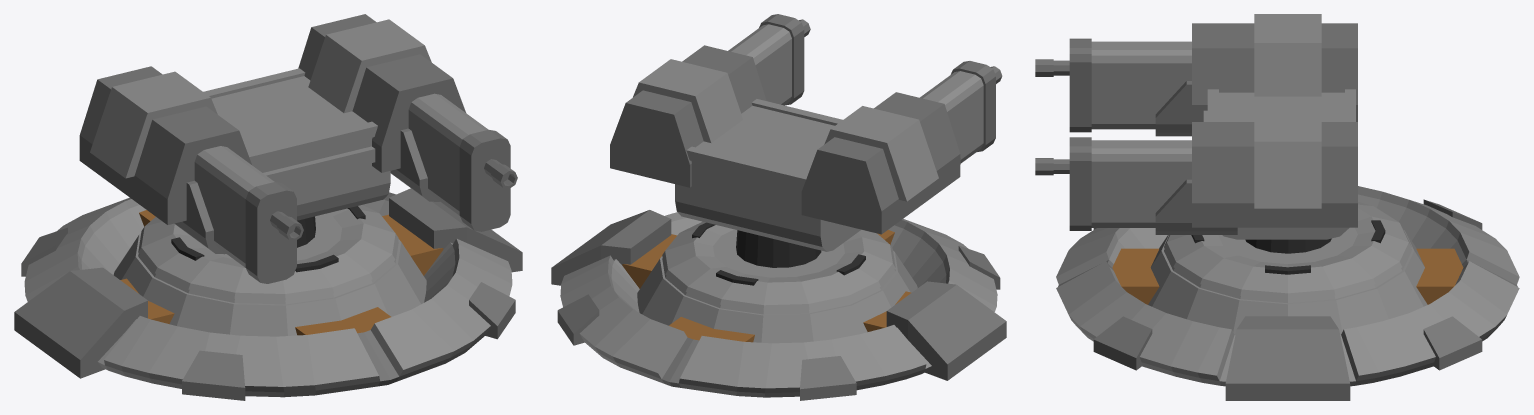
The model's file is Turret_GunDouble.glb.
The picture shows the model from 3 angles, left to right: view 1: azimuth 30°, elevation 25°; view 2: azimuth 150°, elevation 25°; view 3: azimuth 270°, elevation 25°; orthographic projection. The views are drawn at different scales.
Visible parts, largest first — view 1: Turret_GunDouble_Base, Turret_GunDouble_Top; view 2: Turret_GunDouble_Base, Turret_GunDouble_Top; view 3: Turret_GunDouble_Base, Turret_GunDouble_Top.
Part boxes in pixels (x1,y1,x2,y2): Turret_GunDouble_Base: [14, 188, 522, 400]; Turret_GunDouble_Top: [79, 14, 517, 283]; Turret_GunDouble_Base: [551, 210, 1006, 400]; Turret_GunDouble_Top: [610, 14, 1002, 267]; Turret_GunDouble_Base: [1056, 186, 1519, 400]; Turret_GunDouble_Top: [1035, 14, 1357, 253].
Bounding box in the file's own units: 1.16 × 0.587 × 1.16.
